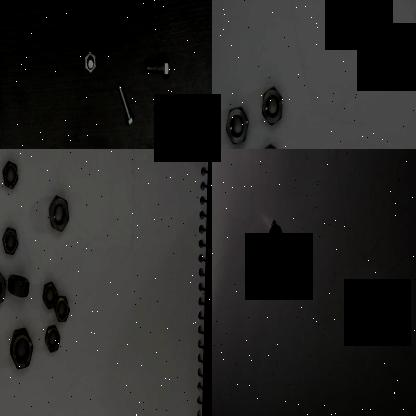Bolts: (153, 101, 183, 149), (268, 218, 300, 256), (262, 252, 292, 286), (116, 78, 134, 128), (142, 51, 170, 80), (82, 43, 102, 82)
NUTS: (9, 324, 36, 373), (260, 80, 284, 130), (225, 102, 249, 148), (49, 192, 71, 234), (5, 272, 32, 298), (2, 156, 22, 191), (43, 323, 61, 360), (0, 224, 20, 256), (54, 296, 72, 324), (43, 282, 57, 312), (0, 264, 8, 306)
